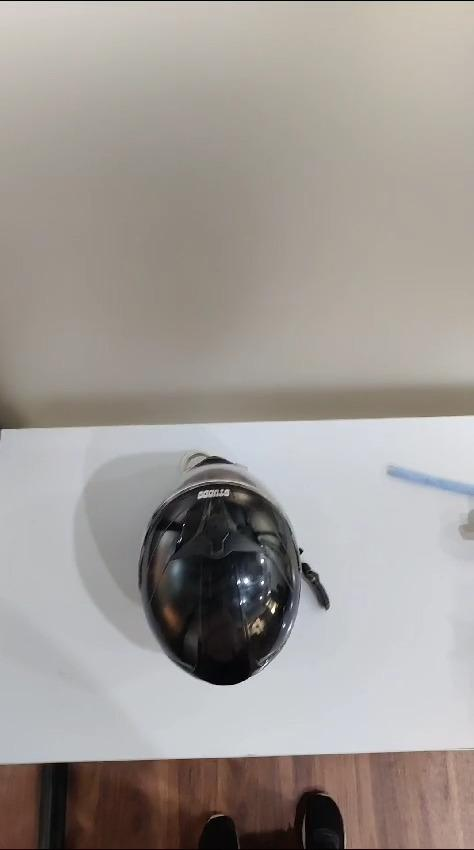Helmet: (139, 453, 328, 684)
